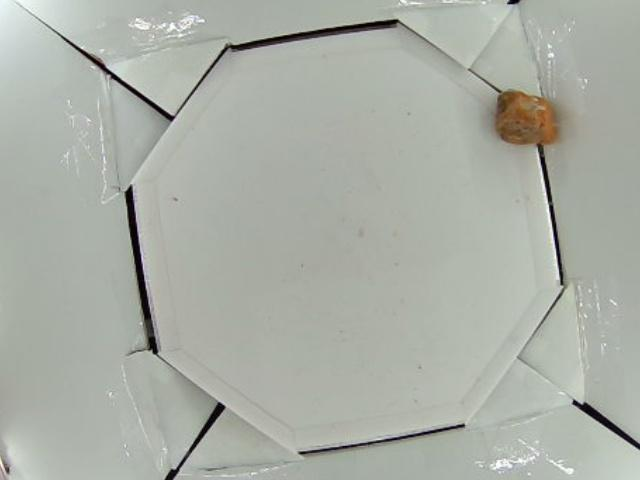Brisk: (498, 88, 559, 147)
